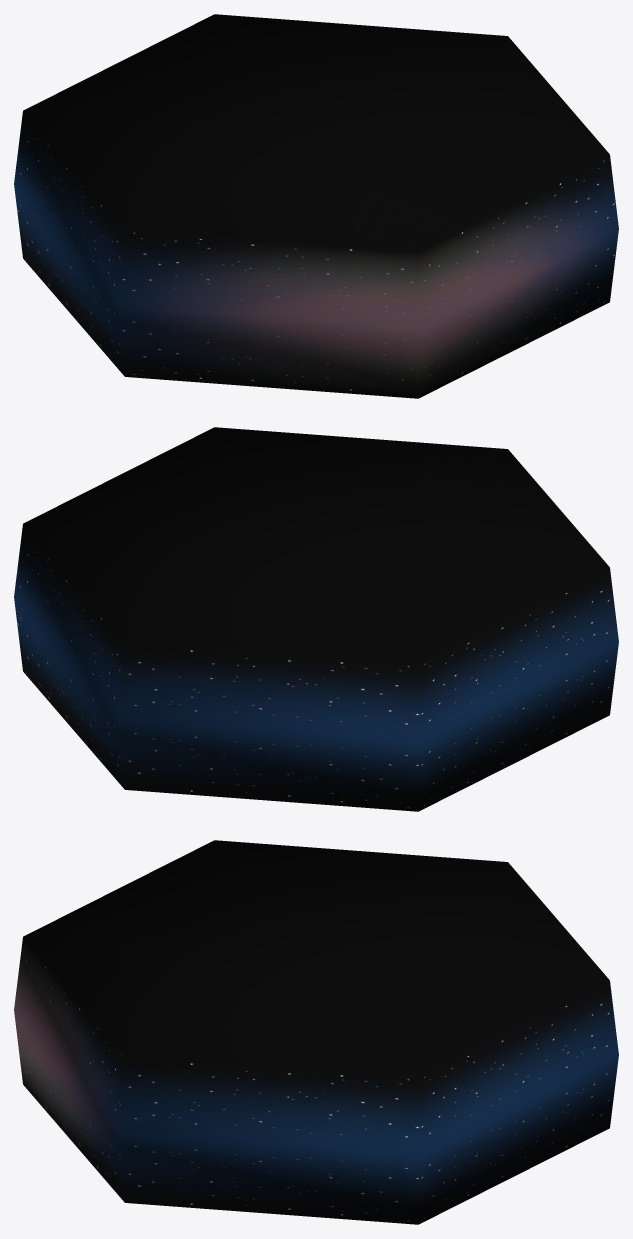
File: SchoolTrack.glb
3 views of the same model, one above another, from view 1: azimuth 30°, elevation 25°; view 2: azimuth 150°, elevation 25°; view 3: azimuth 270°, elevation 25° (orthographic).
Visible parts, largest first — view 1: schoolraceway; view 2: schoolraceway; view 3: schoolraceway.
Boxes of the visible parts, bbox=[...] form: schoolraceway: bbox=[14, 14, 618, 398]; schoolraceway: bbox=[14, 427, 618, 811]; schoolraceway: bbox=[14, 840, 618, 1224].
Size of the model in its own units: 1728 by 489 by 1811.
40 materials, 40 textured.
